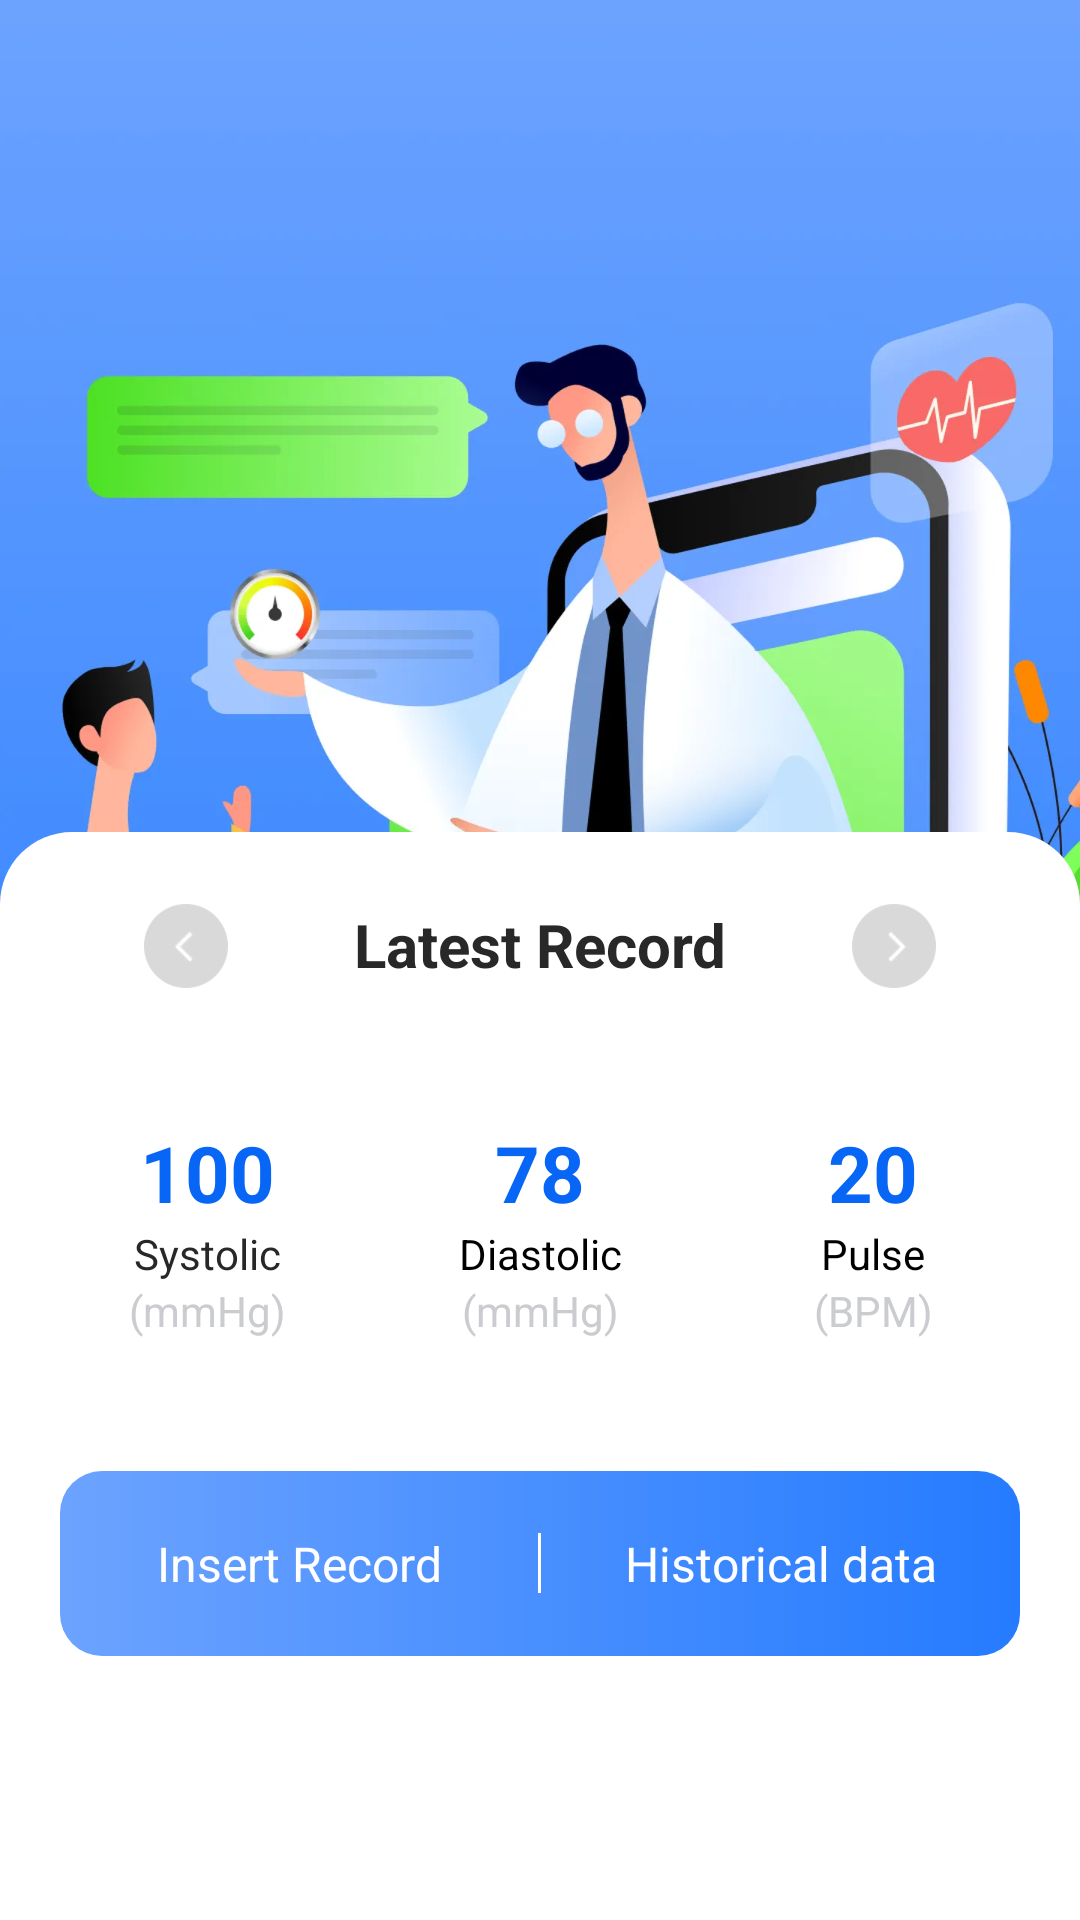

Point at icon controls on the screen. Image size 1080 × 1920, points as (x=x, y=y).
last: (x=186, y=946)
next: (x=894, y=946)
